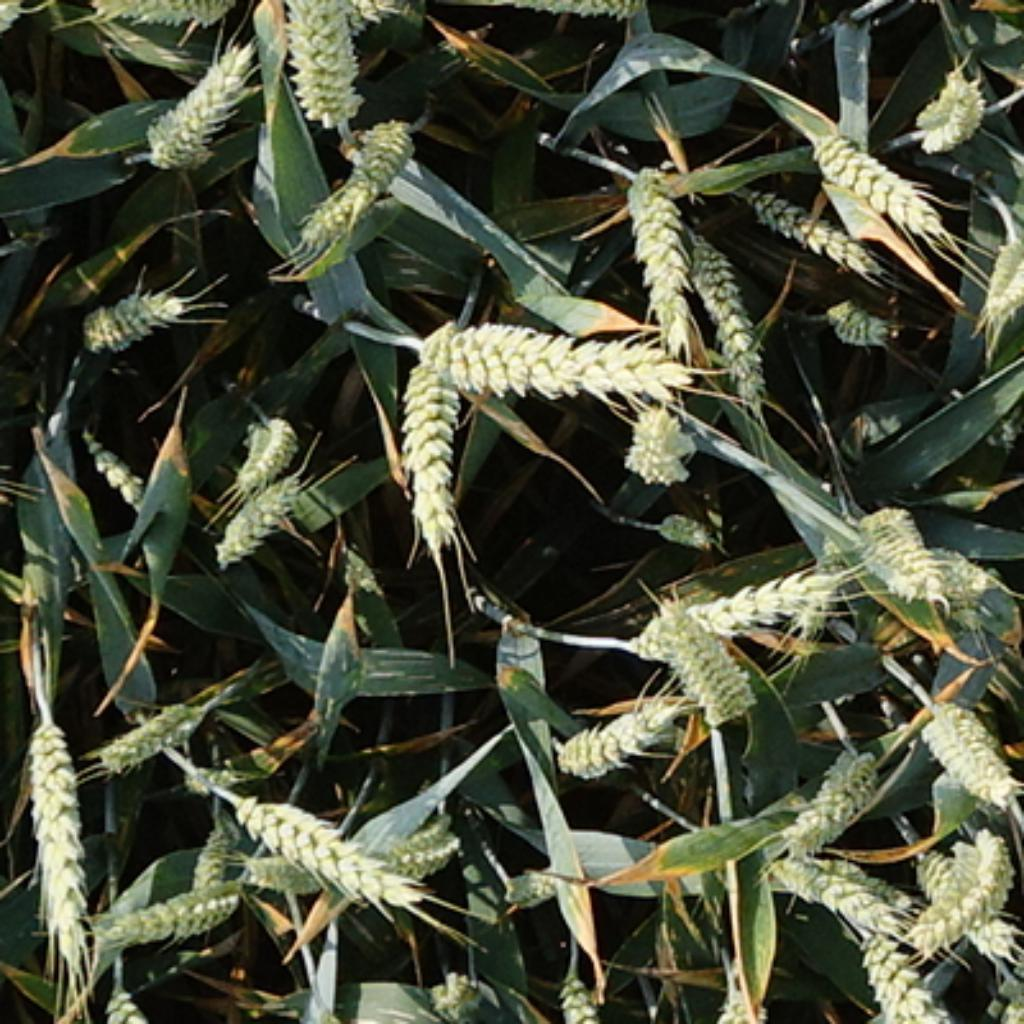0-0: (419, 314, 698, 419), (230, 791, 432, 921), (20, 696, 99, 1008), (386, 330, 483, 545), (645, 552, 847, 647), (245, 811, 460, 896), (135, 38, 258, 171), (634, 586, 770, 706), (734, 184, 898, 279), (814, 128, 947, 245), (908, 826, 1016, 962), (686, 220, 768, 396), (773, 737, 888, 860), (94, 857, 256, 942), (552, 678, 688, 778), (755, 852, 906, 934), (271, 0, 366, 130), (619, 156, 693, 322), (919, 698, 1024, 814), (842, 491, 949, 601), (916, 852, 1024, 960), (94, 680, 215, 770), (857, 924, 960, 1024), (209, 465, 307, 558), (74, 271, 189, 350), (908, 532, 995, 614), (911, 69, 993, 153), (348, 120, 419, 217), (79, 432, 156, 519), (619, 394, 696, 478), (230, 401, 302, 481), (811, 857, 916, 911), (291, 181, 363, 258), (975, 235, 1024, 335), (429, 970, 513, 1024), (821, 289, 893, 348), (84, 0, 248, 23), (192, 824, 227, 929), (499, 862, 570, 911), (468, 0, 665, 15), (650, 499, 714, 545), (555, 975, 599, 1024)
